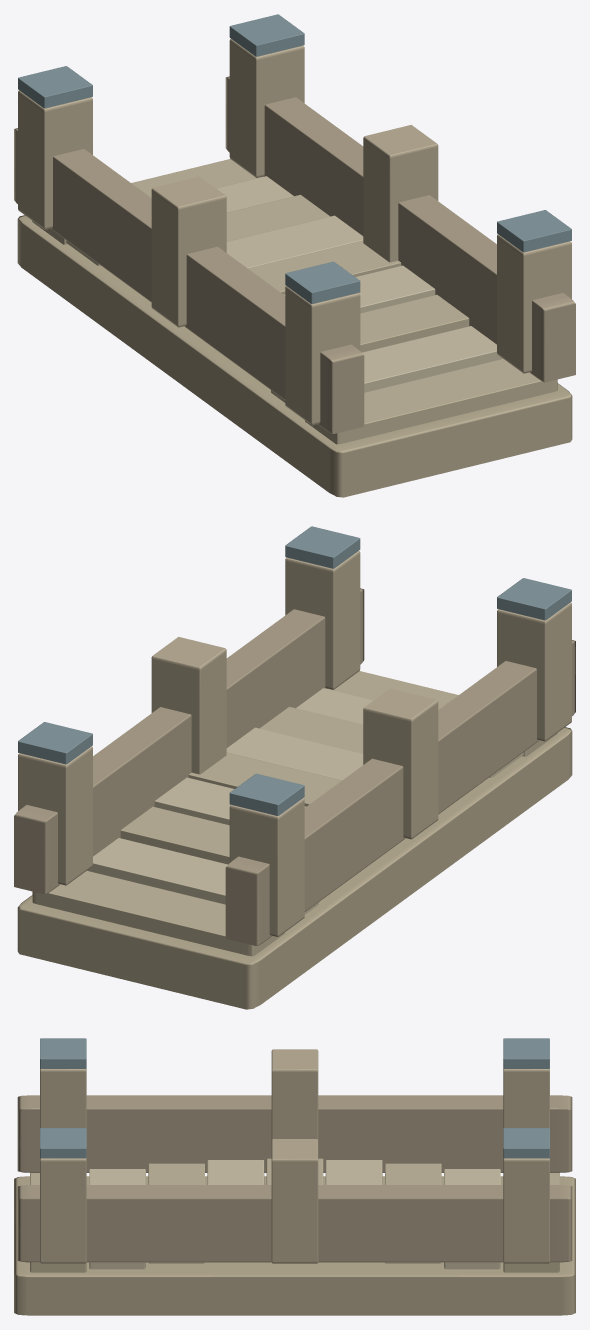
File: bridge-2.glb
The picture shows the model from 3 angles, top to bottom: view 1: azimuth 30°, elevation 25°; view 2: azimuth 150°, elevation 25°; view 3: azimuth 270°, elevation 25°; orthographic projection. The views are drawn at different scales.
Visible parts, largest first — view 1: bridge-2-0; view 2: bridge-2-0; view 3: bridge-2-0.
Boxes of the visible parts, box(x1,y1,x2,y2) form: bridge-2-0: box(14, 14, 575, 497); bridge-2-0: box(14, 526, 575, 1009); bridge-2-0: box(14, 1038, 575, 1315).
Bounding box in the file's own units: 1.06 × 0.7725 × 2.28.
